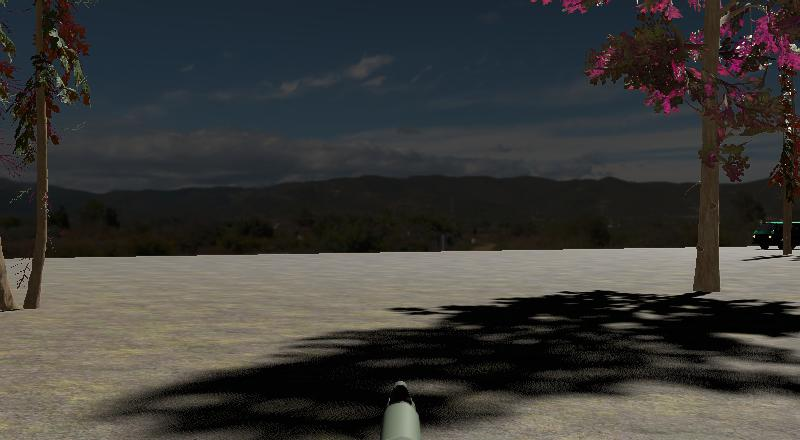car: (751, 219, 800, 251)
